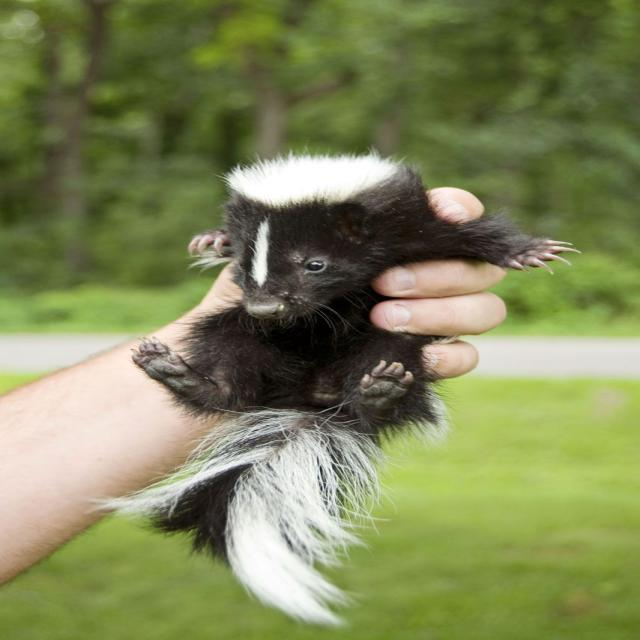Skunk: (157, 145, 530, 616)
